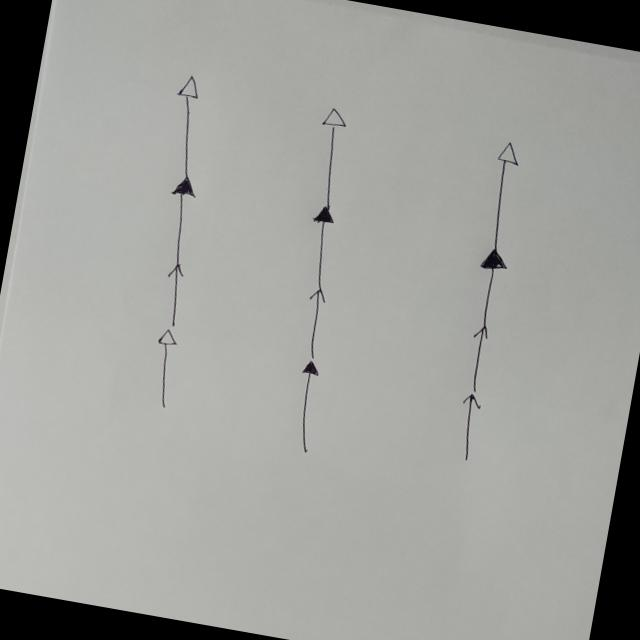arrow_line_up: (54, 276, 112, 364), (58, 470, 112, 554), (485, 550, 540, 631), (318, 34, 378, 108), (277, 512, 327, 592), (314, 185, 369, 256), (519, 72, 566, 146), (297, 331, 343, 406), (96, 0, 149, 62), (508, 222, 553, 292), (488, 370, 526, 440), (95, 136, 134, 190)
